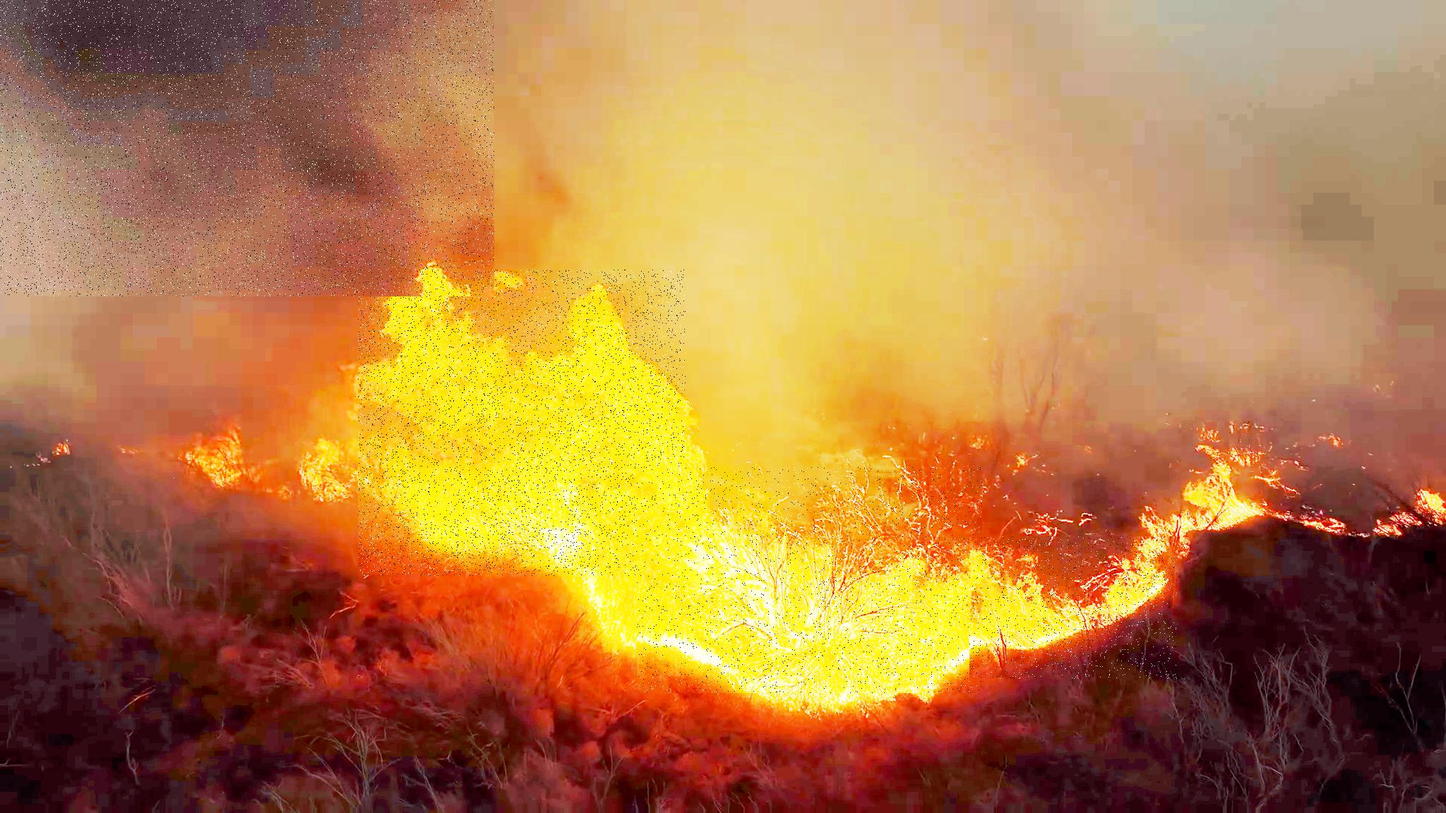fire: (358, 270, 686, 576), (637, 467, 983, 693), (969, 536, 1177, 679)
smoke: (0, 0, 494, 296)
